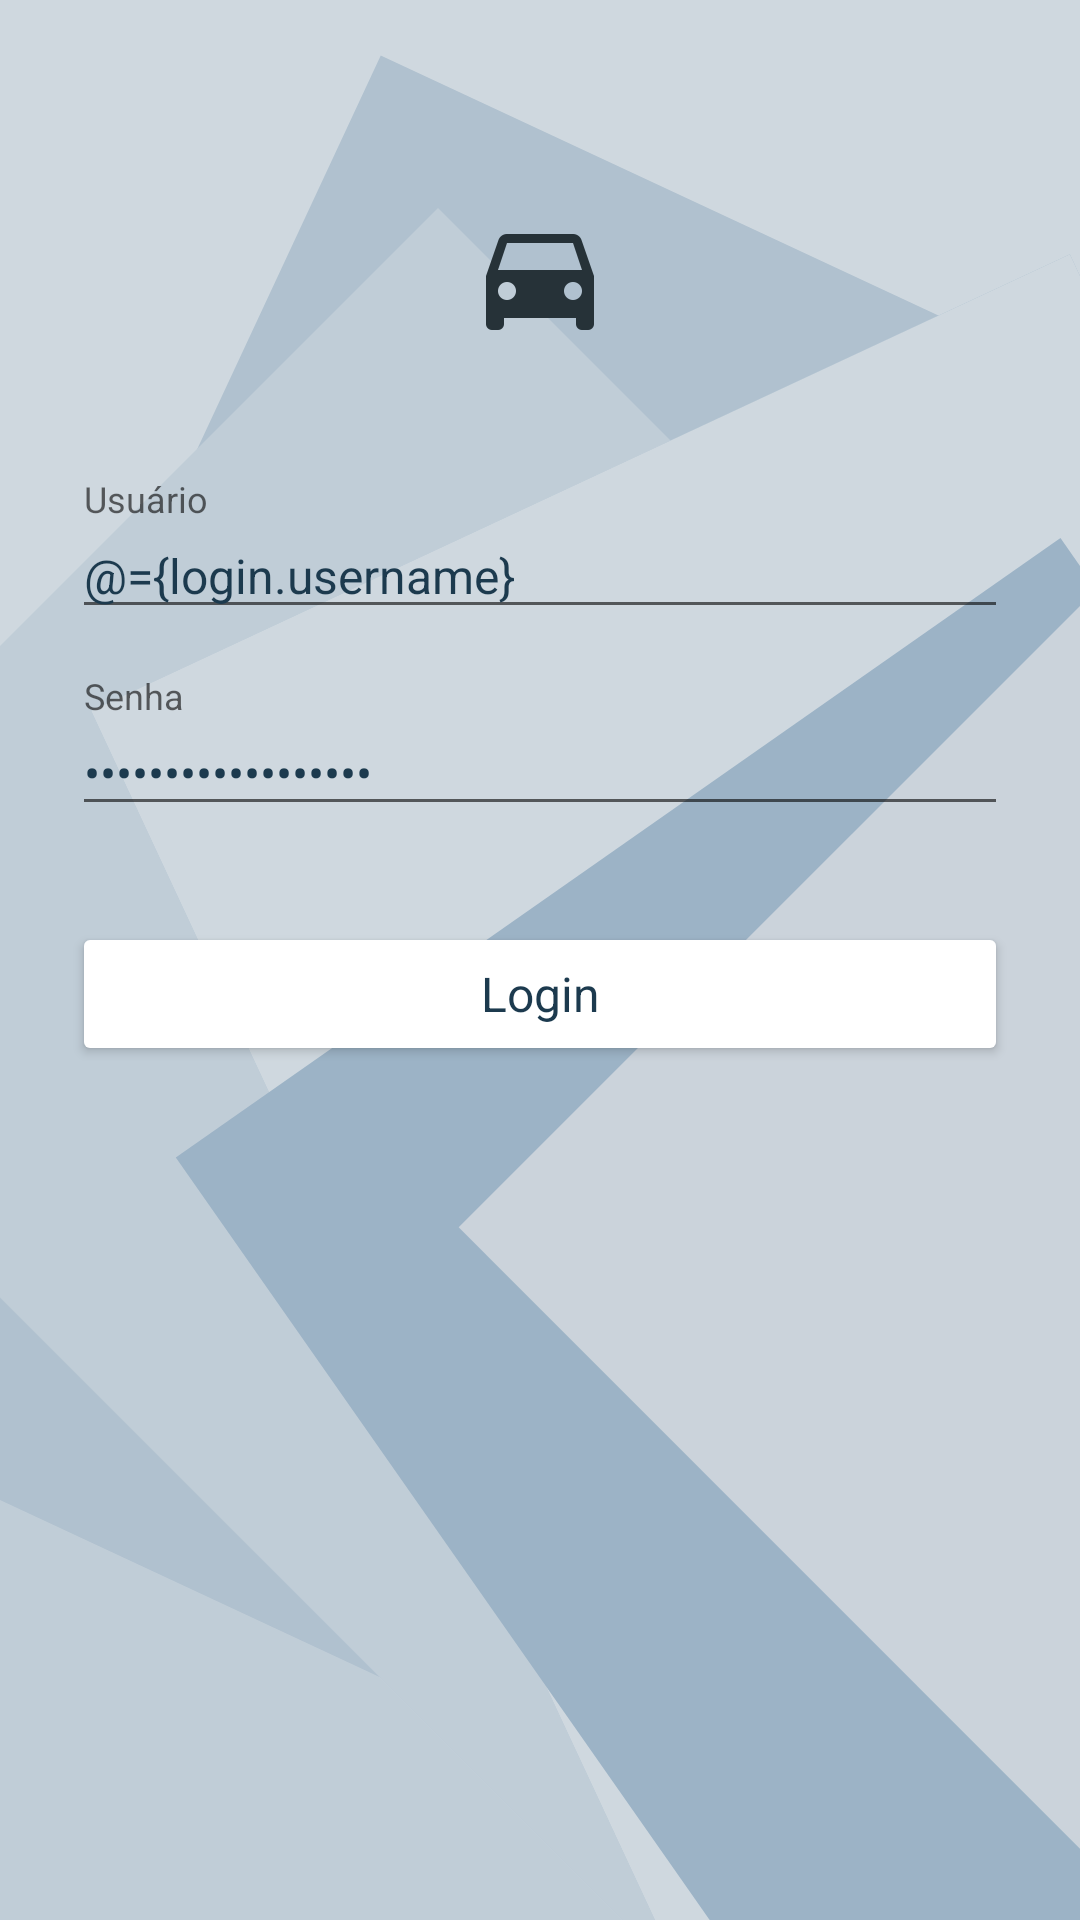

Named icons in this screenshot (1080*1920) and their centers, point (x, y):
directions car: point (540, 282)
